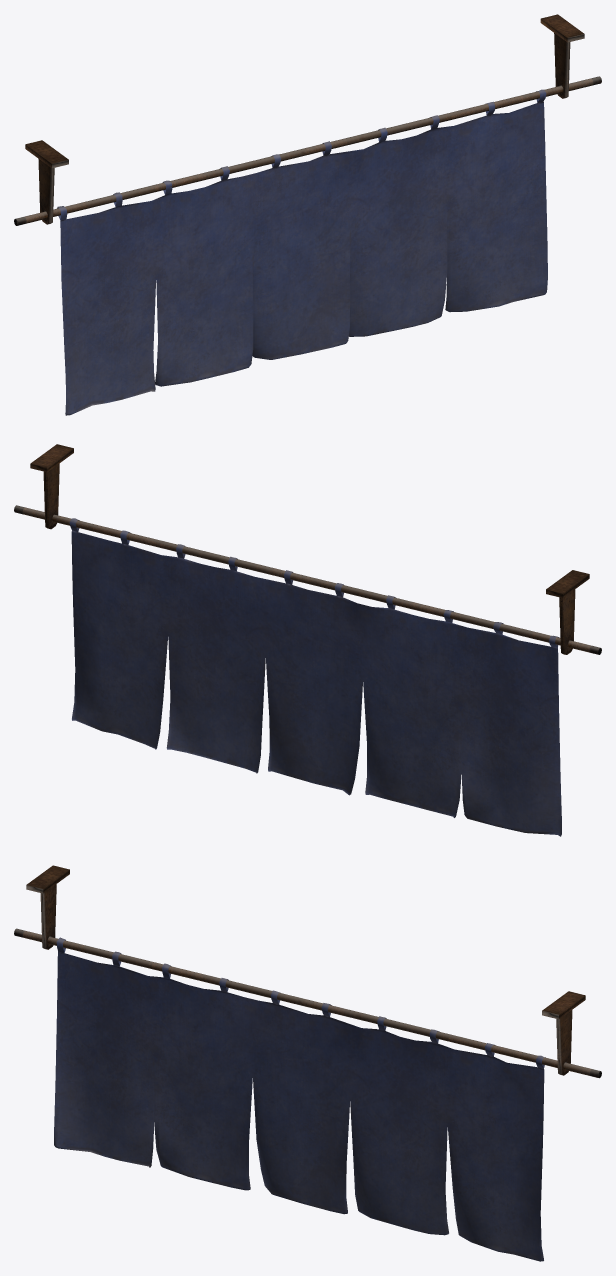
The model's file is ShopCurtain_A.fbx.
3 renders of one model, top to bottom at view 1: azimuth 30°, elevation 25°; view 2: azimuth 150°, elevation 25°; view 3: azimuth 330°, elevation 25°, orthographic.
Visible parts, largest first — view 1: ShopCurtain_A; view 2: ShopCurtain_A; view 3: ShopCurtain_A.
Boxes of the visible parts, x1=… form: ShopCurtain_A: x1=14, y1=14, x2=601, y2=415; ShopCurtain_A: x1=14, y1=444, x2=601, y2=836; ShopCurtain_A: x1=14, y1=865, x2=601, y2=1261.
Size of the model in its own units: 233 by 101 by 18.52.
Materials: 1 (1 with a texture image).
